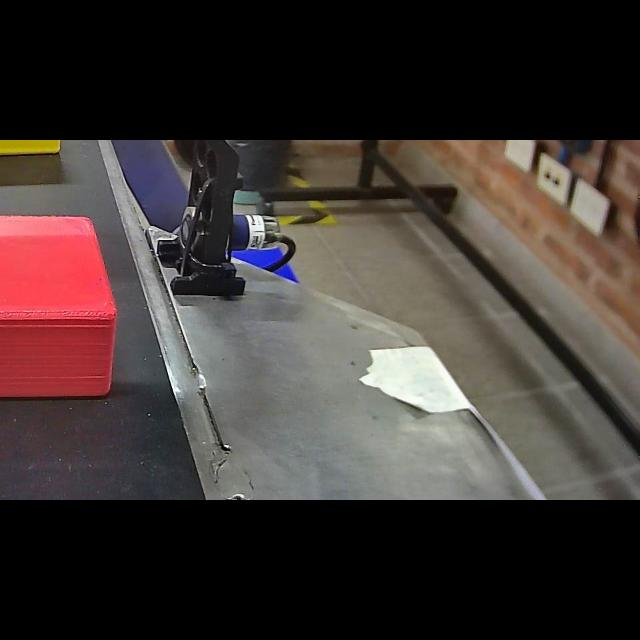redBox: (0, 204, 126, 410)
yellowBox: (0, 140, 74, 168)
